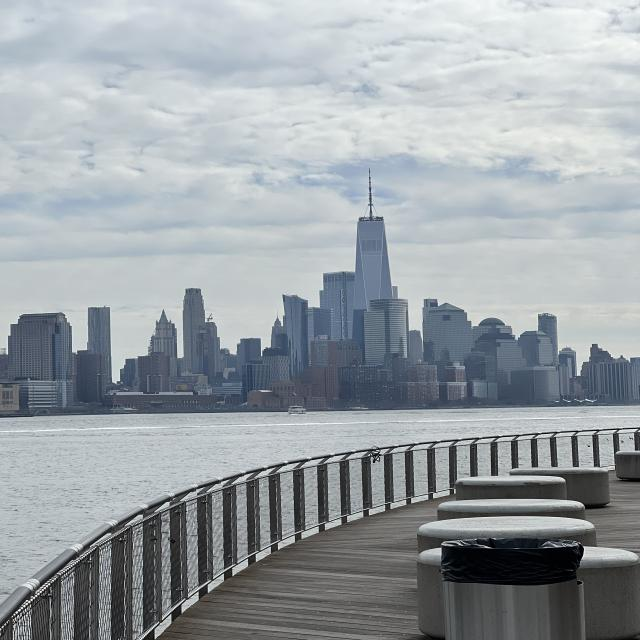WTC: (352, 167, 392, 312)
